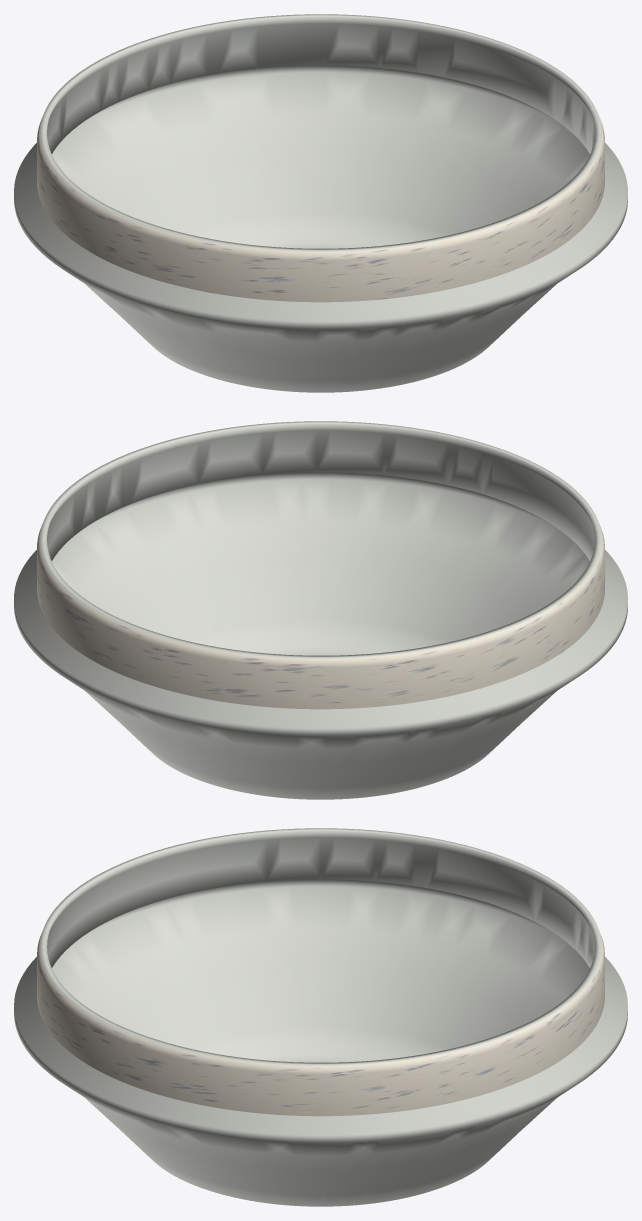
3 renders of one model, top to bottom at view 1: azimuth 30°, elevation 25°; view 2: azimuth 150°, elevation 25°; view 3: azimuth 270°, elevation 25°, orthographic.
Visible parts, largest first — view 1: body; view 2: body; view 3: body.
Part boxes in pixels (x1,y1,x2,y2): body: (14, 14, 627, 392); body: (14, 421, 627, 799); body: (14, 828, 627, 1206).
Size of the model in its own units: 0.2658 by 0.0905 by 0.2658.
2 materials, 1 textured.
